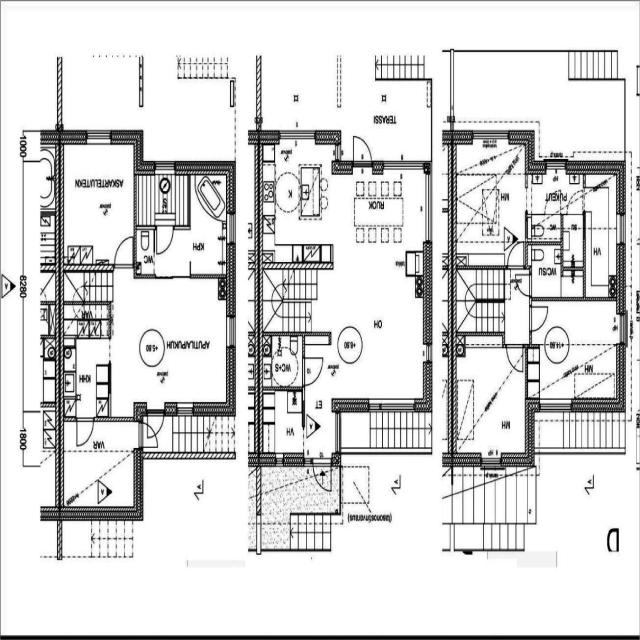door: (112, 232, 136, 268), (154, 221, 176, 257), (351, 132, 374, 165), (527, 300, 550, 332), (75, 414, 96, 449), (302, 354, 324, 387), (505, 238, 527, 270), (139, 416, 161, 447), (504, 342, 525, 374), (312, 460, 332, 492), (144, 409, 165, 438), (435, 493, 454, 522), (513, 269, 532, 297), (565, 189, 585, 215)
window: (366, 393, 419, 414), (422, 168, 434, 246), (382, 157, 426, 172), (536, 396, 574, 413), (471, 127, 509, 143), (278, 127, 317, 142), (614, 309, 629, 345), (85, 127, 113, 144), (225, 312, 237, 349), (226, 209, 238, 246), (480, 452, 504, 470), (616, 212, 627, 246), (174, 399, 195, 416), (154, 159, 176, 174), (423, 339, 434, 365), (546, 158, 566, 171), (273, 453, 285, 467)
zone: (532, 452, 639, 630), (112, 269, 230, 411), (331, 252, 428, 402), (59, 139, 136, 270), (534, 297, 625, 404), (454, 137, 526, 265), (258, 140, 332, 259), (452, 340, 528, 455), (330, 165, 429, 247), (60, 425, 138, 509), (586, 167, 618, 299), (61, 335, 110, 419), (154, 226, 227, 275), (260, 387, 304, 457), (526, 167, 584, 212), (261, 332, 304, 389), (134, 170, 175, 228), (26, 138, 57, 213), (530, 243, 562, 300), (61, 302, 110, 337), (562, 211, 585, 267), (38, 210, 58, 270), (134, 226, 156, 277), (526, 212, 562, 242), (41, 404, 57, 460), (561, 269, 584, 299), (247, 403, 257, 456)
